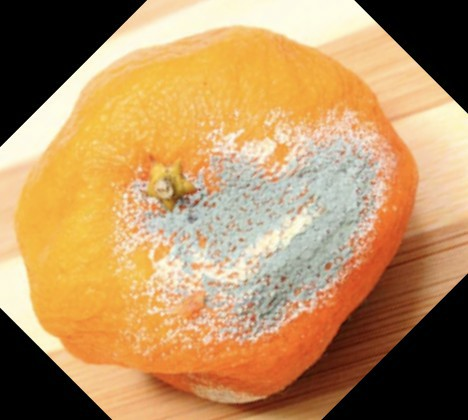rotten_orange: (22, 32, 415, 400)
